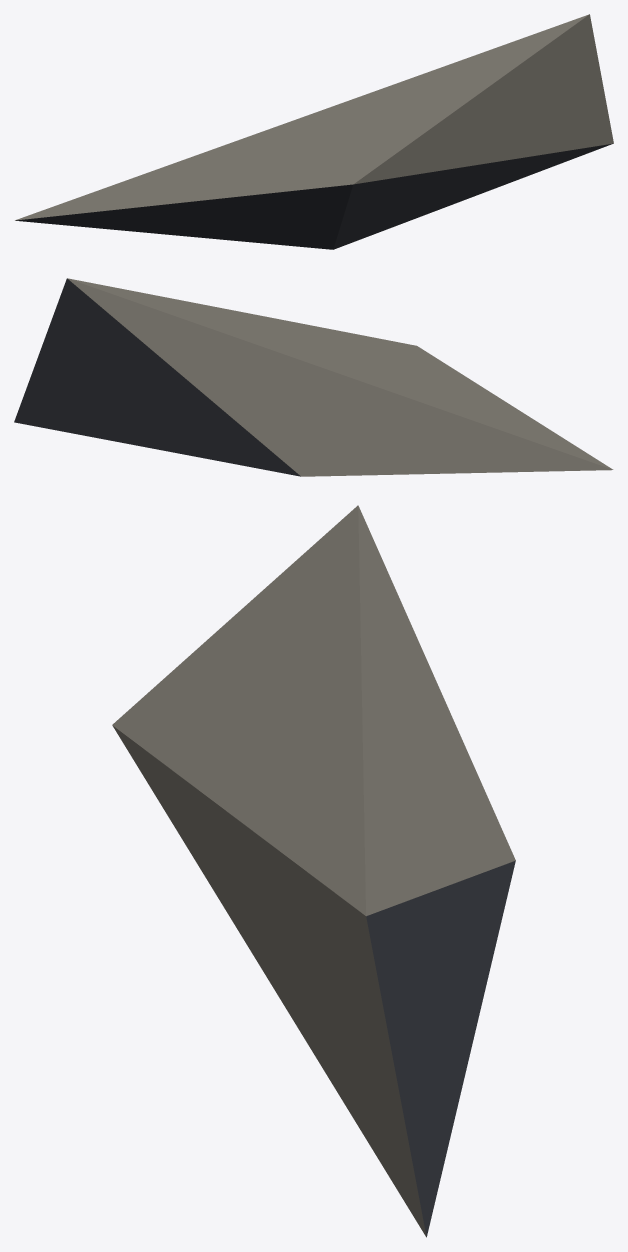
The model's file is fx_debris_c.glb.
The picture shows the model from 3 angles, top to bottom: view 1: azimuth 30°, elevation 25°; view 2: azimuth 150°, elevation 25°; view 3: azimuth 270°, elevation 25°; orthographic projection. The views are drawn at different scales.
Visible parts, largest first — view 1: fx_debris_c__mesh; view 2: fx_debris_c__mesh; view 3: fx_debris_c__mesh.
Part boxes in pixels (x1=…): fx_debris_c__mesh: x1=15, y1=14, x2=613, y2=249; fx_debris_c__mesh: x1=14, y1=278, x2=613, y2=476; fx_debris_c__mesh: x1=112, y1=505, x2=515, y2=1237.
Size of the model in its own units: 0.3 by 0.07 by 0.09.
1 material, 1 textured.
